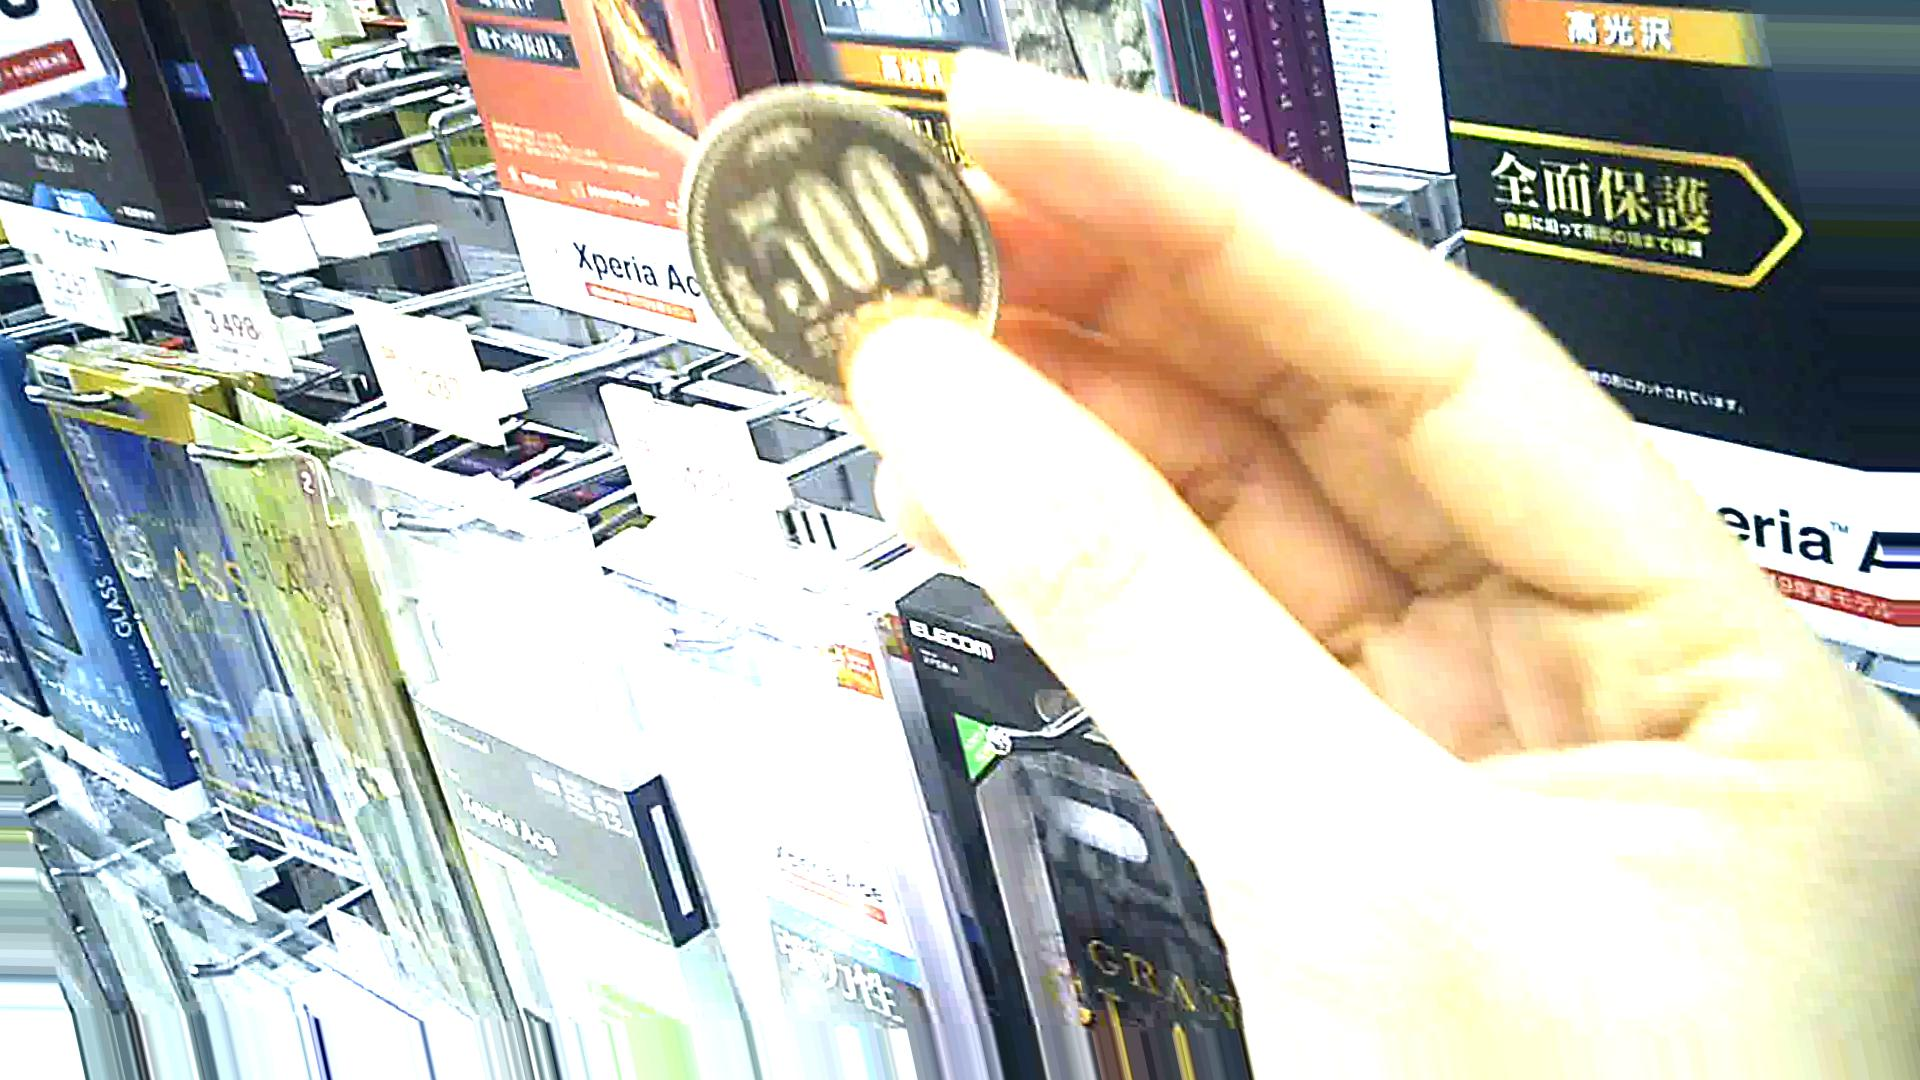500 Yen: (655, 62, 1005, 380)
